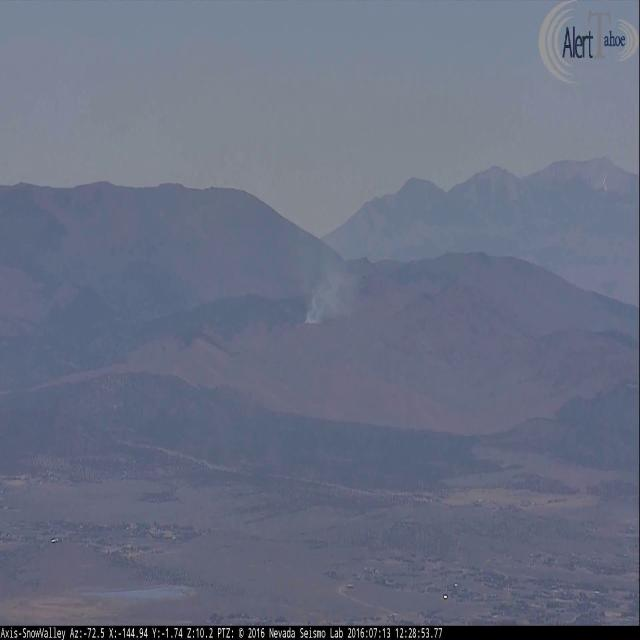smoke: (301, 163, 387, 322)
